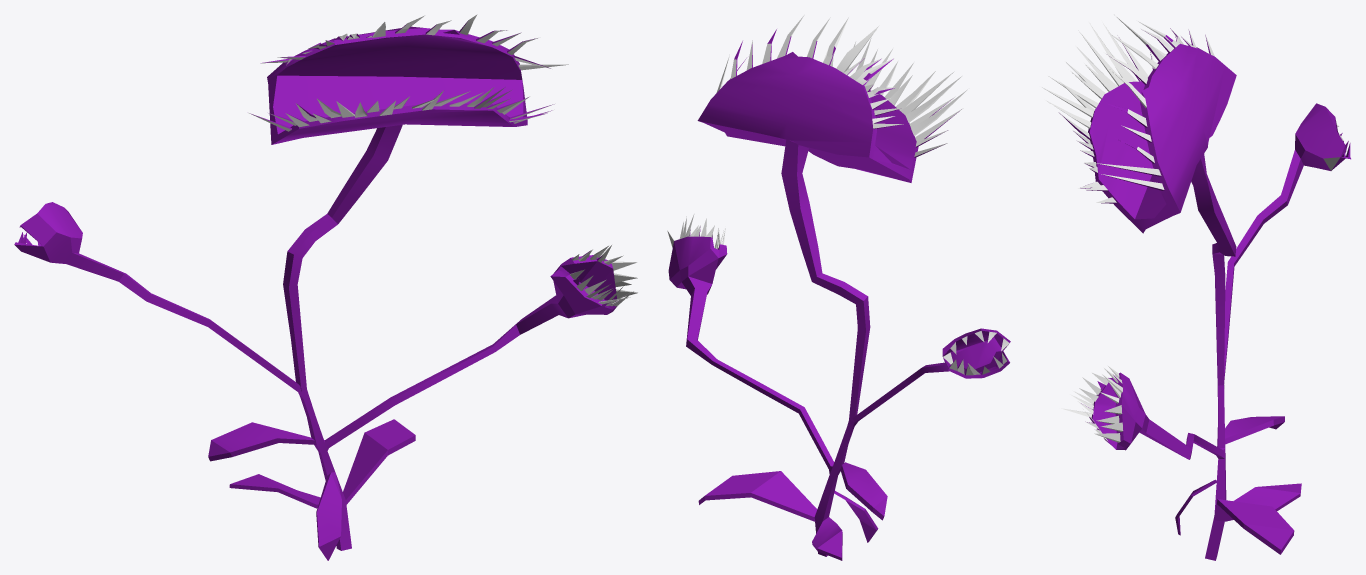
The model's file is Flytrap.fbx.
3 views of the same model, side by side, from view 1: azimuth 30°, elevation 25°; view 2: azimuth 150°, elevation 25°; view 3: azimuth 270°, elevation 25° (orthographic). The views are drawn at different scales.
Parts seen in each view (by area): view 1: Flytrap; view 2: Flytrap; view 3: Flytrap.
Part boxes in pixels (box(x1,y1,x2,y2)): Flytrap: box(14, 14, 637, 560); Flytrap: box(667, 15, 1010, 560); Flytrap: box(1041, 16, 1350, 560).
Size of the model in its own units: 299 by 320 by 168.
